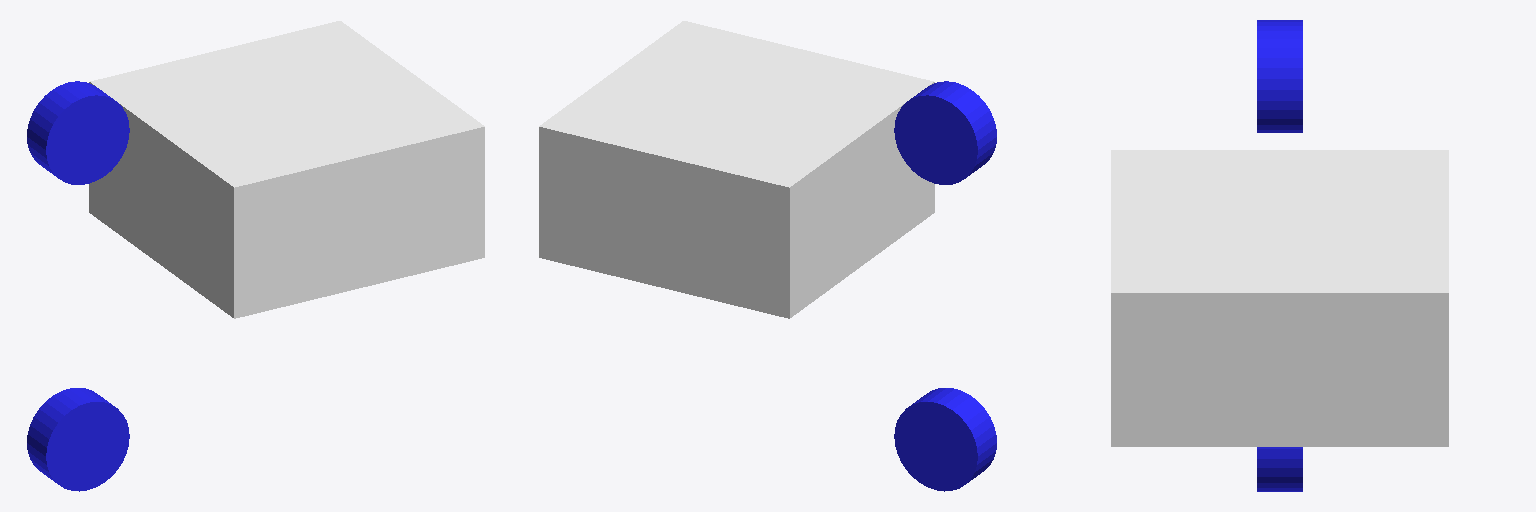
The robot description file, URDF, robot "robot":
<?xml version="1.0"?>
<robot xmlns:xacro="https://www.ros.org/wiki/xacro" name="robot">

    <material name="white">
        <color rgba="1 1 1 1"/>
    </material>

    <material name="orange">
        <color rgba="1 0.3 0.1 1"/>
    </material>

    <material name="blue">
        <color rgba="0.2 0.2 1 1"/>
    </material>

    <material name="black">
        <color rgba="0 0 0 1"/>
    </material>

    <!-- BASE LINK -->
    
    <link name="base_link">
    </link>

    <!-- CHASSIS LINK -->

    <joint name="chassis_joint" type="fixed">
        <parent link="base_link"/>
        <child link="chassis"/>
        <origin xyz="0.1 0 0"/>
    </joint>

    <link name="chassis">
        <visual>
            <origin xyz="0.15 0 0.075" rpy="0 0 0"/>
            <geometry>
                <box size="0.3 0.3 0.15"/>
            </geometry>
            <material name="white"/>
        </visual>

        <collision>
            <origin xyz="0.15 0 0.075" rpy="0 0 0"/>
            <geometry>
                <box size="0.3 0.3 0.15"/>
            </geometry>
            <material name="white"/>
        </collision>
    </link>

    <!-- LEFT WHEEL LINK -->

    <joint name="left_wheel_joint" type="continuous">
        <parent link="base_link"/>
        <child link="left_wheel"/>
        <origin xyz="0 0 0.175" rpy="1.5708 0 0"/> <!-- 1.5708 rad is equivalent to pi/2 -->
        <axis xyz="0 0 1"/>
    </joint>

    <link name="left_wheel">
        <visual>
            <geometry>
                <cylinder radius="0.05" length="0.04"/>
            </geometry>
            <material name="blue"/>
        </visual>
        <collision>
            <geometry>
                <cylinder radius="0.05" length="0.04"/>
            </geometry>
            <material name="blue"/>
        </collision>
    </link>

    <!-- RIGHT WHEEL LINK -->

    <joint name="right_wheel_joint" type="continuous">
        <parent link="base_link"/>
        <child link="right_wheel"/>
        <origin xyz="0 0 -0.175" rpy="-1.5708 0 0"/> <!-- -1.5708 rad is equivalent to -pi/2 -->
        <axis xyz="0 0 -1"/>
    </joint>

    <link name="right_wheel">
        <visual>
            <geometry>
                <cylinder radius="0.05" length="0.04"/>
            </geometry>
            <material name="blue"/>
        </visual>
        <collision>
            <geometry>
                <cylinder radius="0.05" length="0.04"/>
            </geometry>
            <material name="blue"/>
        </collision>
    </link>

    <!-- CASTER WHEEL LINK -->

    <joint name="caster_wheel_joint" type="fixed">
        <parent link="base_link"/>
        <child link="caster_wheel"/>
        <origin xyz="0.24 0 0"/>
    </joint>

    <link name="caster_wheel">
        <visual>
            <geometry>
                <sphere radius="0.05"/>
            </geometry>
            <material name="black"/>
        </visual>
        <collision>
            <geometry>
                <sphere radius="0.05"/>
            </geometry>
            <material name="black"/>
        </collision>
    </link>
    <gazebo>
    <plugin name="differential_drive_controller" filename="libgazebo_ros_diff_drive.so">
      <ros>
        <namespace>/robot</namespace>
        <remapFrom>cmd_vel</remapFrom> <remapTo>/cmd_vel</remapTo>
      </ros>
      <leftJoint>left_wheel_joint</leftJoint>
      <rightJoint>right_wheel_joint</rightJoint>
      <wheelSeparation>0.3</wheelSeparation>
      <wheelDiameter>0.1</wheelDiameter>
      <torque>10</torque>
    </plugin>
    <plugin name="gazebo_ros_lidar_plugin" filename="libgazebo_ros_lidar.so">
      <ros>
        <namespace>/robot</namespace>
        <remapFrom>scan</remapFrom> <remapTo>/scan</remapTo>
      </ros>
      <frameName>lidar_link</frameName>
    </plugin>
  </gazebo>
</robot>

--- Render facts (derived) ---
3 views of the same robot in one strip: view 1: azimuth 30°, elevation 25°; view 2: azimuth 150°, elevation 25°; view 3: azimuth 270°, elevation 25° (orthographic).
Robot: robot — 5 links, 4 joints (2 continuous, 2 fixed); root link base_link; default pose: all joints at 0.
Visible links, largest first — view 1: chassis, left_wheel, right_wheel; view 2: chassis, left_wheel, right_wheel; view 3: chassis, left_wheel, right_wheel.
Boxes of the visible links, x1=… form: chassis: x1=89, y1=21, x2=484, y2=318; left_wheel: x1=27, y1=81, x2=129, y2=184; right_wheel: x1=27, y1=388, x2=129, y2=491; chassis: x1=539, y1=21, x2=934, y2=318; left_wheel: x1=894, y1=81, x2=996, y2=184; right_wheel: x1=894, y1=388, x2=996, y2=491; chassis: x1=1111, y1=150, x2=1448, y2=446; left_wheel: x1=1257, y1=20, x2=1302, y2=132; right_wheel: x1=1257, y1=447, x2=1302, y2=491.
Size in the robot's own frame: 0.45 by 0.3 by 0.45 metres.
Geometry: primitives only (box / cylinder / sphere), no mesh files.